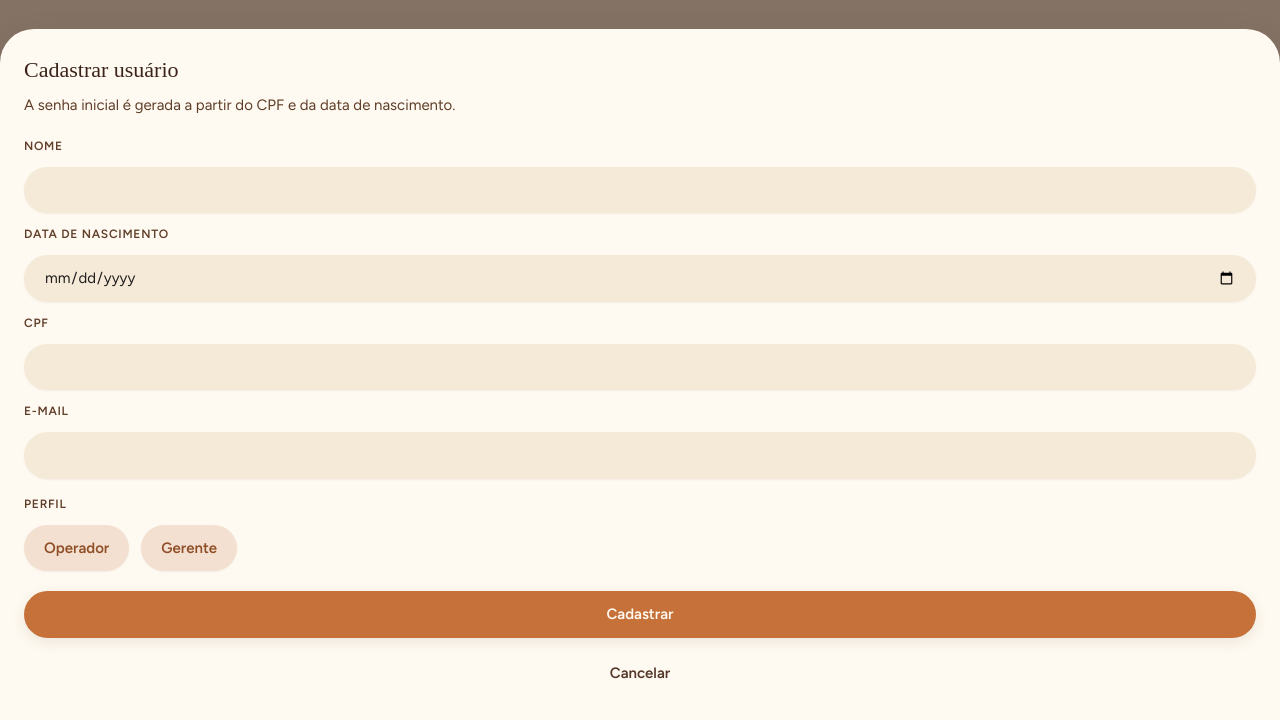
UserFormDialog › UT-045: campo obrigatório vazio bloqueia o cadastro e aponta o campo faltante
Step 1. Type "Novo Operador" into the field labelled "Nome" → (640,190), box top-left (24, 166), bottom-right (1256, 213)
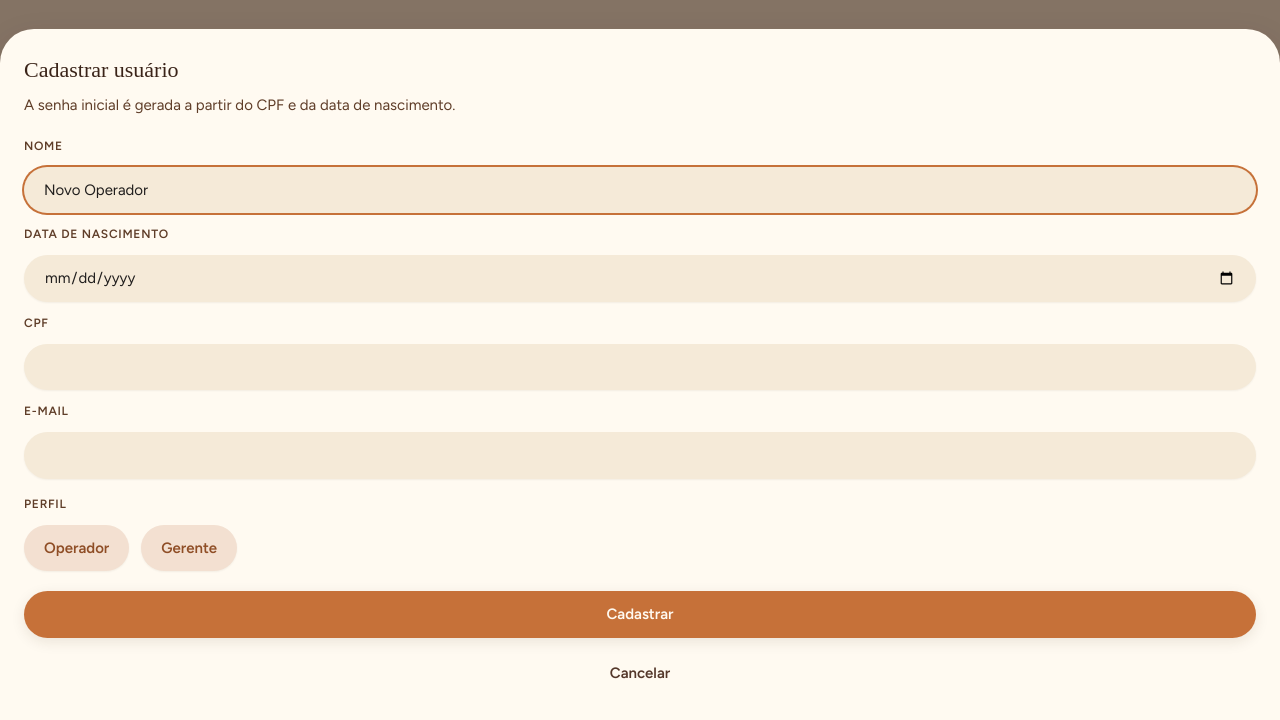
Step 2. Type "1995-05-20" into the date field labelled "Data de nascimento" → (640,278), box top-left (24, 255), bottom-right (1256, 302)
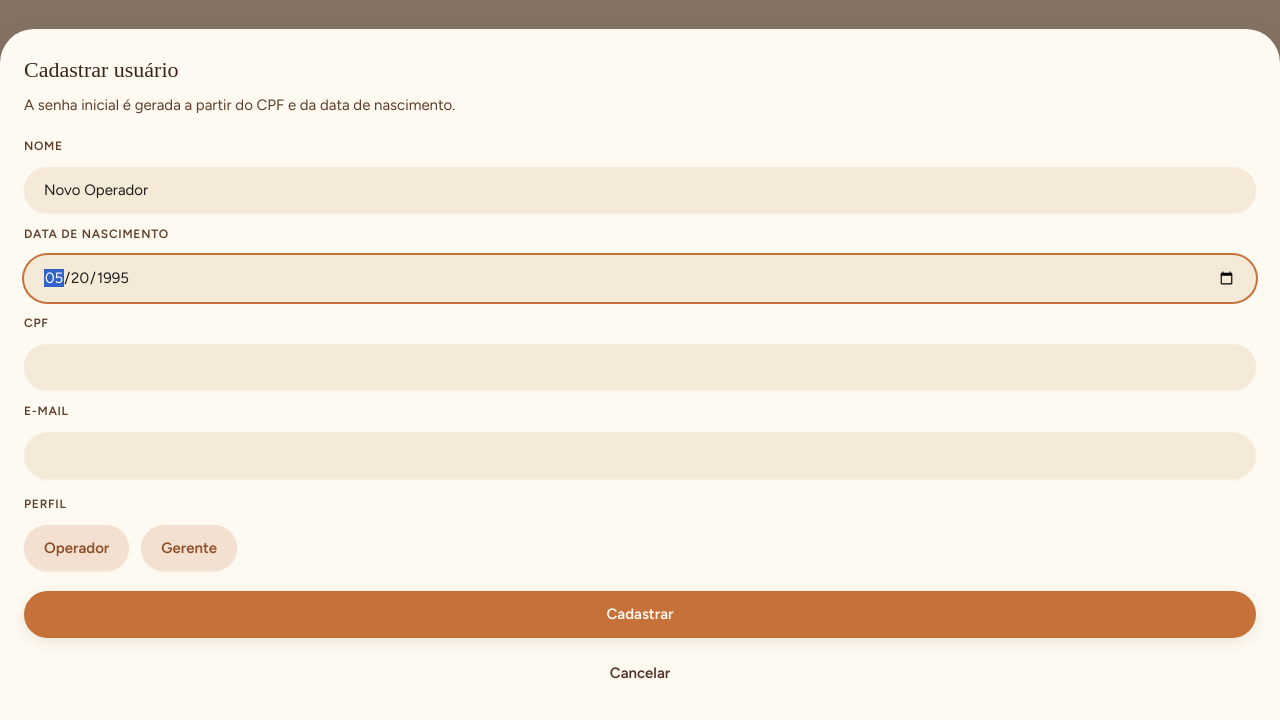
Step 3. Type "novo@loja.com" into the field labelled "E-mail" → (640,455), box top-left (24, 432), bottom-right (1256, 478)
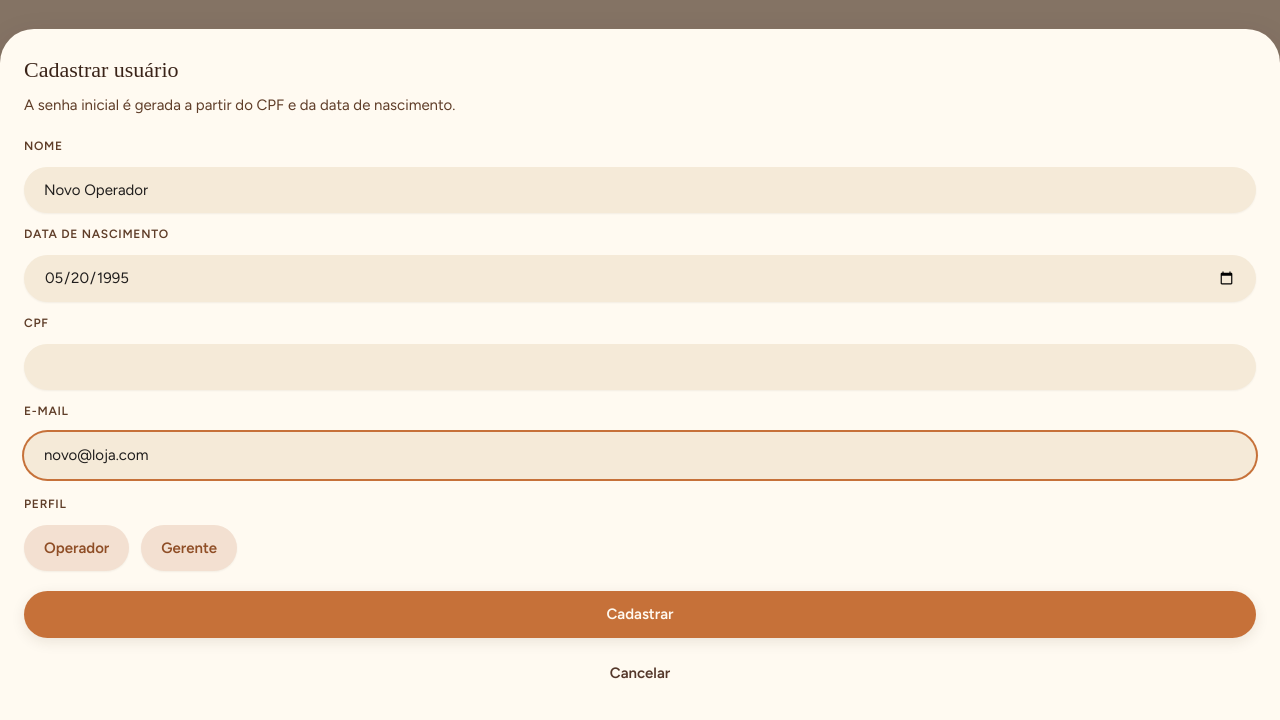
Step 4. Click the radio button labelled "Operador" → (77,548), box top-left (24, 524), bottom-right (129, 571)
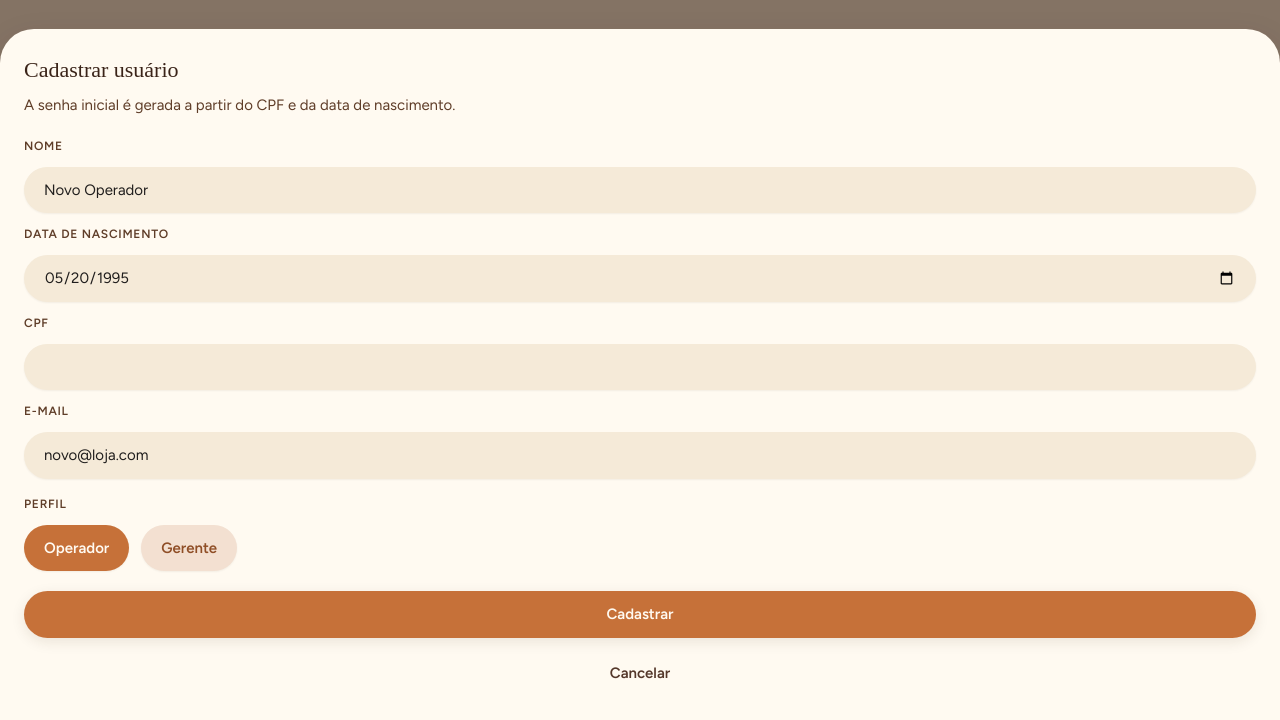
Step 5. Click the button "Cadastrar" → (640,614), box top-left (24, 591), bottom-right (1256, 638)
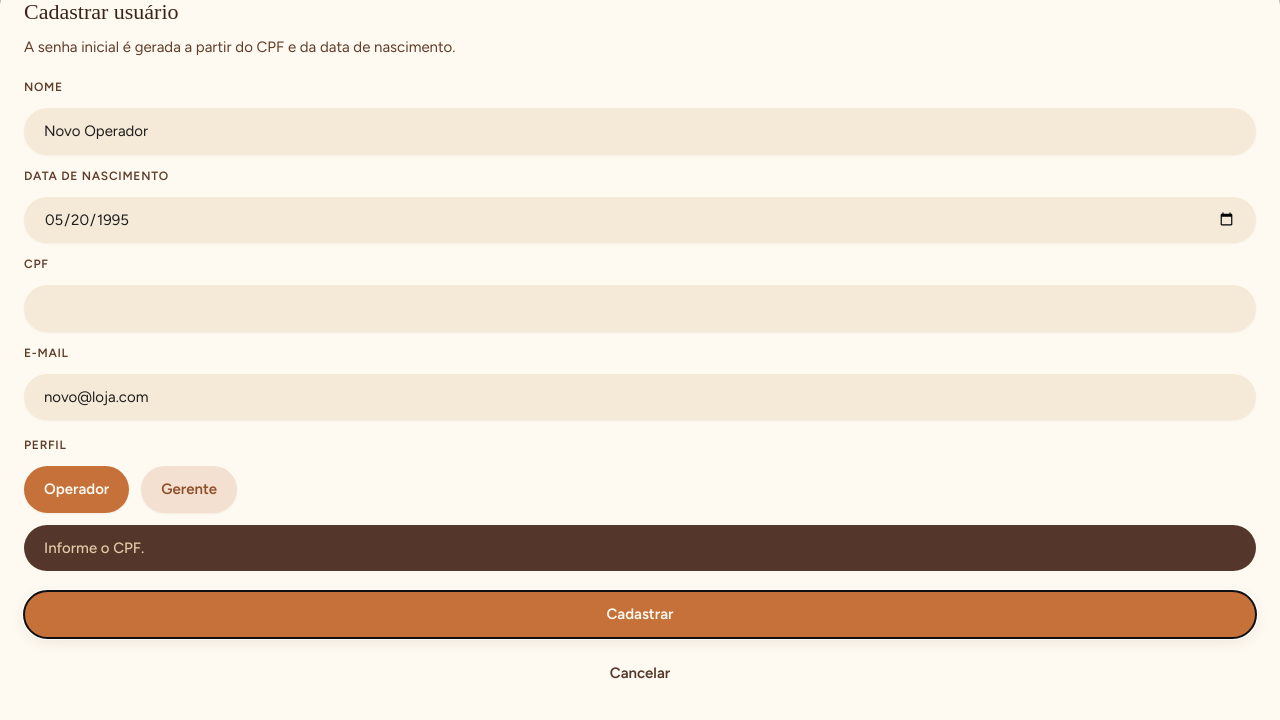
Expected: the message reads "Informe o CPF.", top-left (44, 538), bottom-right (144, 556)
